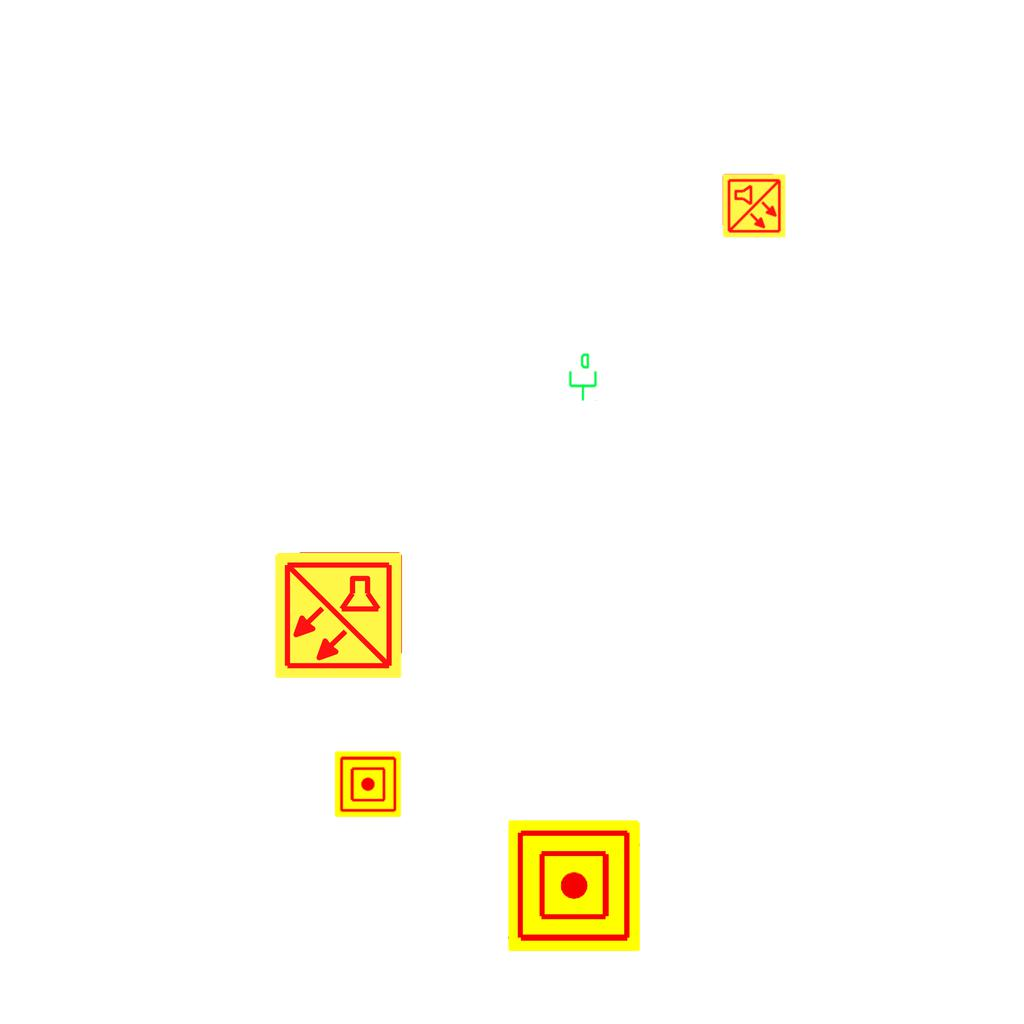Datenanschluss_einfach: (565, 352, 599, 402)
NAM-Nichtautomatischer_Melder: (508, 820, 640, 952), (335, 751, 401, 817)
OKW_Multisensormelder_(Kombination_optischer_Rauch-Kahlenmonoxid_Waerme-Melder): (272, 549, 404, 681), (721, 173, 787, 239)
